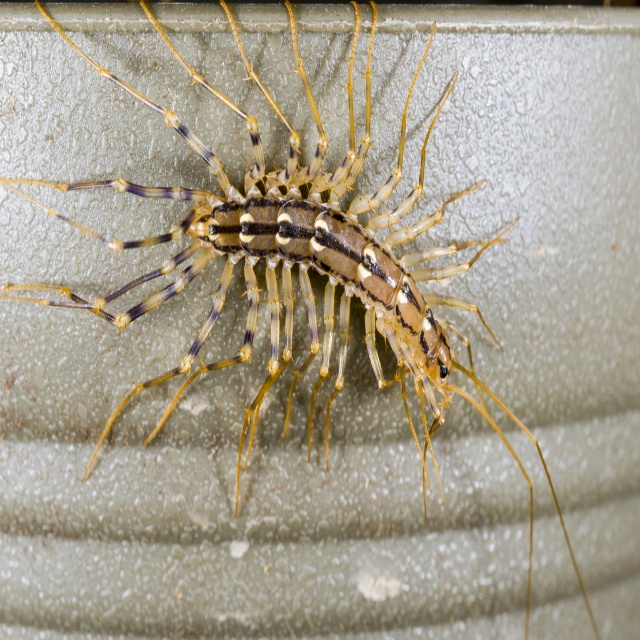Centipede: (0, 0, 606, 639)
